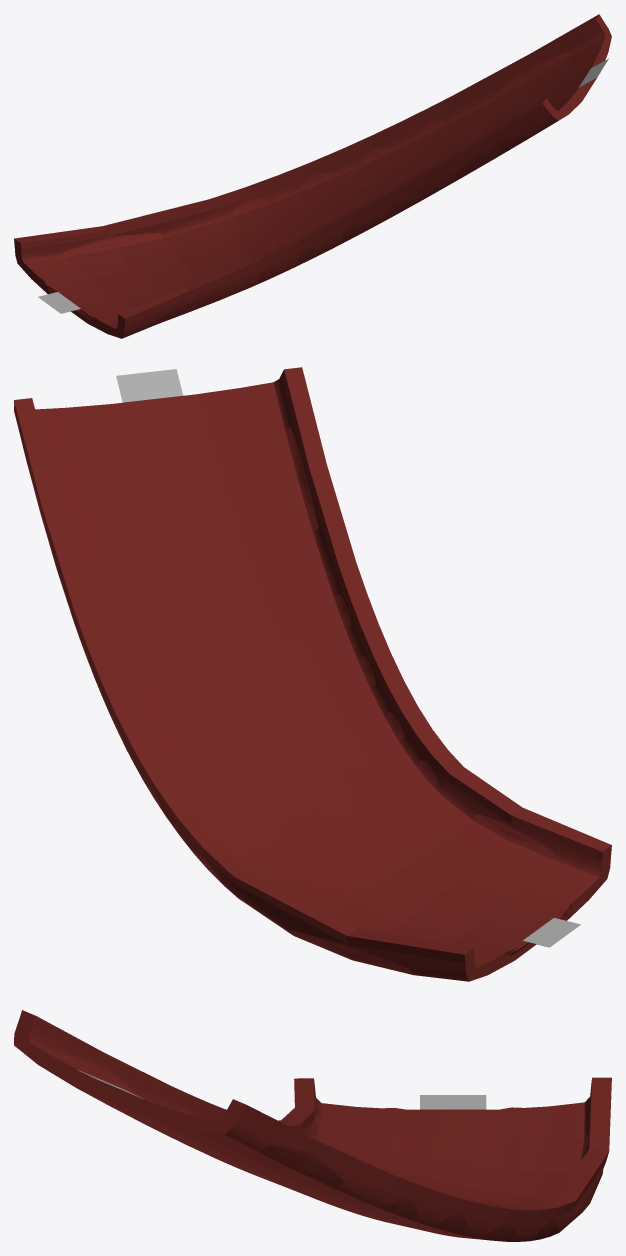
The model's file is 45UpRight.fbx.
3 views of the same model, one above another, from view 1: azimuth 30°, elevation 25°; view 2: azimuth 150°, elevation 25°; view 3: azimuth 270°, elevation 25° (orthographic). The views are drawn at different scales.
Parts seen in each view (by area): view 1: pPipe3, pasted__pasted__pCube3; view 2: pPipe3, pasted__pasted__pCube47, pasted__pasted__pCube3; view 3: pPipe3, pasted__pasted__pCube3.
Part boxes in pixels (bbox=[...]): pPipe3: bbox=[14, 14, 611, 338]; pasted__pasted__pCube3: bbox=[38, 292, 80, 313]; pPipe3: bbox=[14, 367, 611, 981]; pasted__pasted__pCube47: bbox=[116, 369, 183, 402]; pasted__pasted__pCube3: bbox=[523, 918, 580, 947]; pPipe3: bbox=[14, 1010, 611, 1241]; pasted__pasted__pCube3: bbox=[420, 1095, 486, 1109].
Bounding box in the file's own units: 24.18 × 11.41 × 17.95.
